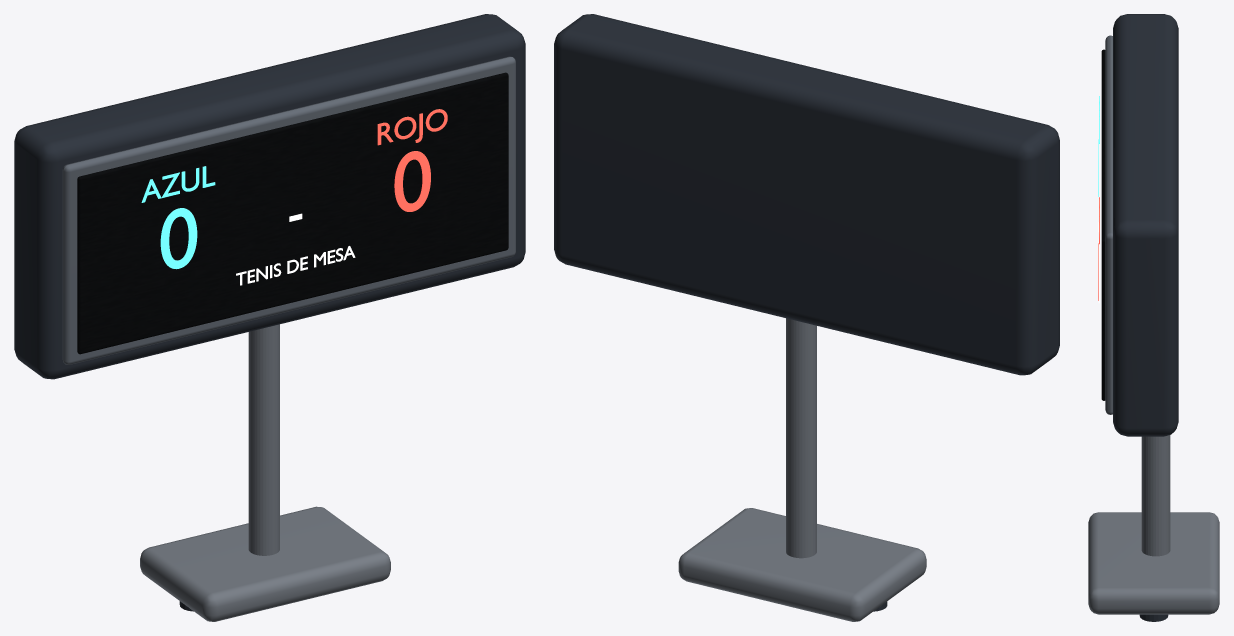
Rendered from marcador.fbx.
3 renders of one model, left to right at view 1: azimuth 30°, elevation 25°; view 2: azimuth 150°, elevation 25°; view 3: azimuth 270°, elevation 25°, orthographic. The views are drawn at different scales.
Parts seen in each view (by area): view 1: Pantalla_Digital, Carcasa_Principal, Base_Soporte, Marco_Pantalla, Poste_Soporte, Puntaje_Azul, Puntaje_Rojo, Subtitulo, Etiqueta_Rojo, Etiqueta_Azul; view 2: Carcasa_Principal, Base_Soporte, Poste_Soporte; view 3: Carcasa_Principal, Base_Soporte, Poste_Soporte, Marco_Pantalla, Pantalla_Digital.
Boxes of the visible parts, x1,y1,x2,y2 form: Pantalla_Digital: (77,72,508,354); Carcasa_Principal: (14,14,525,379); Base_Soporte: (140,506,390,621); Marco_Pantalla: (62,56,515,364); Poste_Soporte: (248,324,279,555); Puntaje_Azul: (160,208,197,269); Puntaje_Rojo: (394,151,430,211); Subtitulo: (236,246,355,285); Etiqueta_Rojo: (377,109,447,145); Etiqueta_Azul: (141,166,215,202); Carcasa_Principal: (554,14,1059,375); Base_Soporte: (678,508,926,621); Poste_Soporte: (786,318,816,558); Carcasa_Principal: (1113,14,1178,436); Base_Soporte: (1088,512,1219,614); Poste_Soporte: (1141,435,1170,556); Marco_Pantalla: (1105,35,1112,414); Pantalla_Digital: (1101,49,1105,400).
Size of the model in its own units: 125 by 126 by 32.
